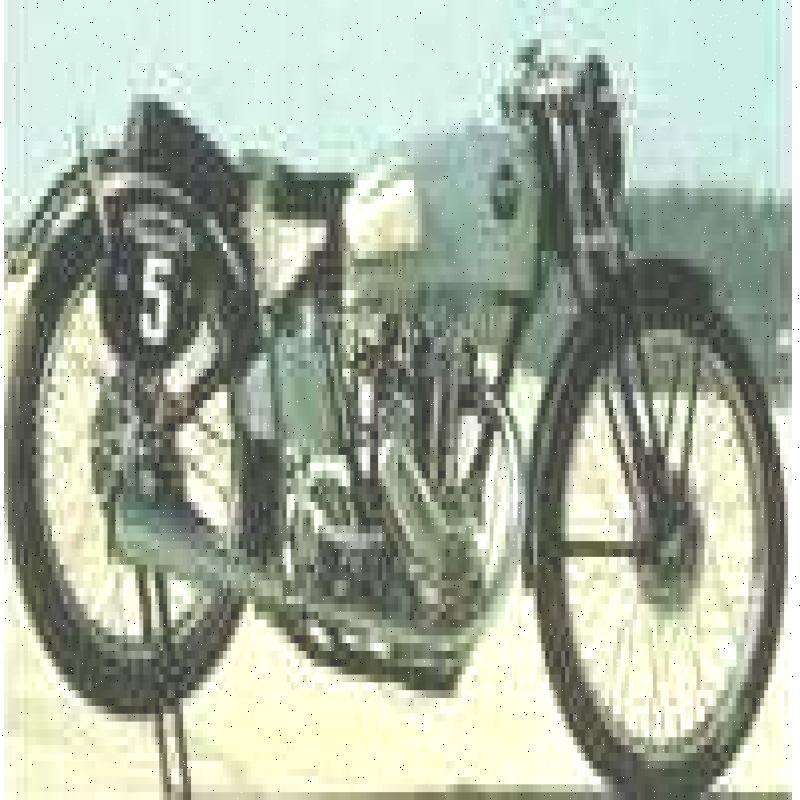bike: (2, 6, 793, 782)
